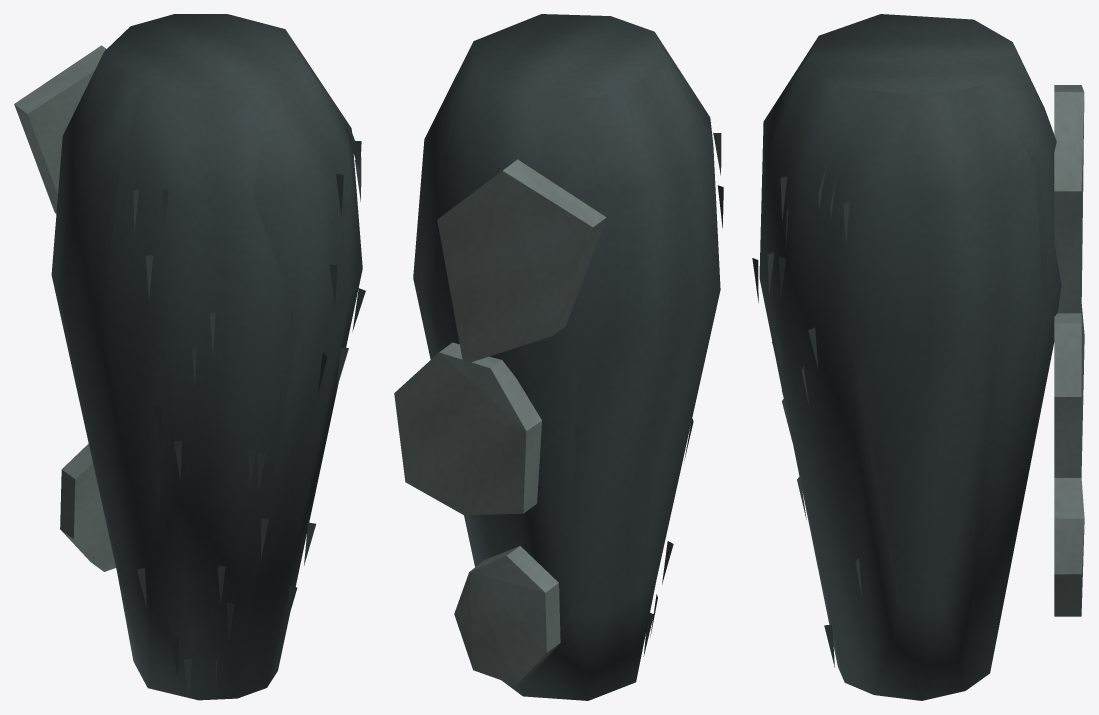
The model's file is shin_l_lod2.glb.
3 renders of one model, left to right at view 1: azimuth 30°, elevation 25°; view 2: azimuth 150°, elevation 25°; view 3: azimuth 270°, elevation 25°, orthographic.
Parts seen in each view (by area): view 1: dormin_shin_l_LOD2; view 2: dormin_shin_l_LOD2; view 3: dormin_shin_l_LOD2.
Part boxes in pixels (left/top/right/bottom): dormin_shin_l_LOD2: left=14, top=14, right=365, bottom=700; dormin_shin_l_LOD2: left=394, top=14, right=723, bottom=700; dormin_shin_l_LOD2: left=752, top=14, right=1084, bottom=700.
Size of the model in its own units: 1.64 by 3.58 by 1.75.
Materials: 2 (2 with a texture image).
